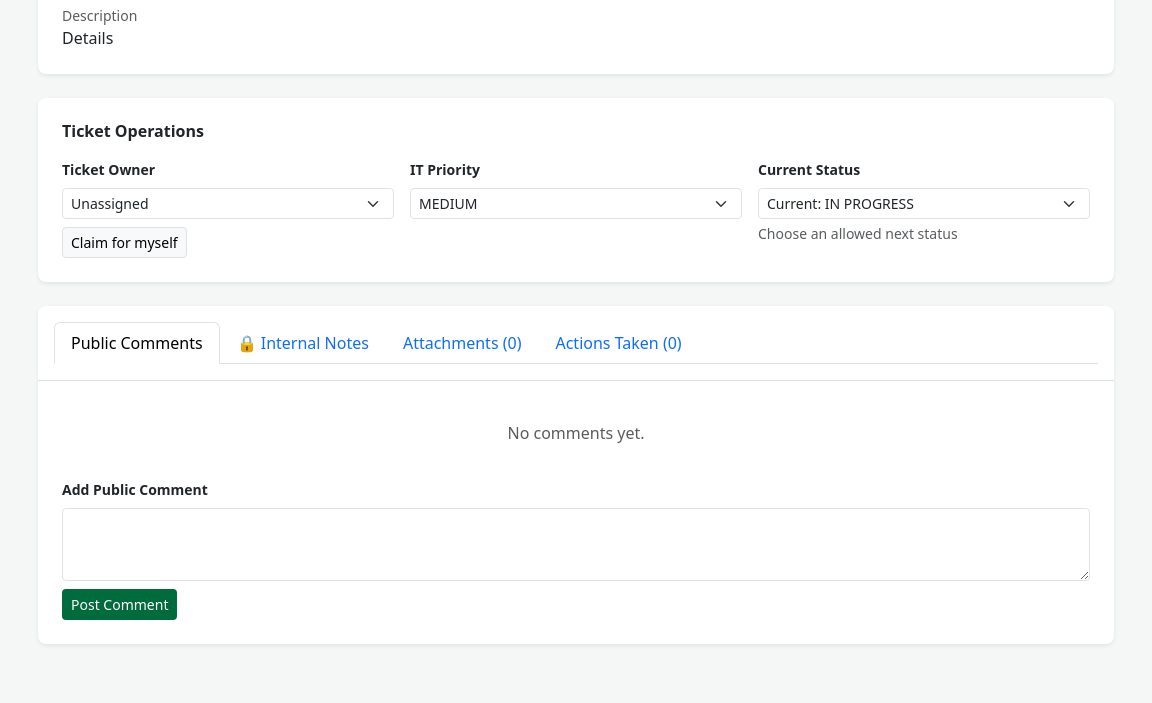
Test case: Actions Taken staff UI › UI-04: only renders Follow-up Note when selected
This screenshot has width=1152, height=703.
(page scrolled)
Click the tab "Actions Taken (0)" at (619, 343), box [538,322,699,364]
(page scrolled)
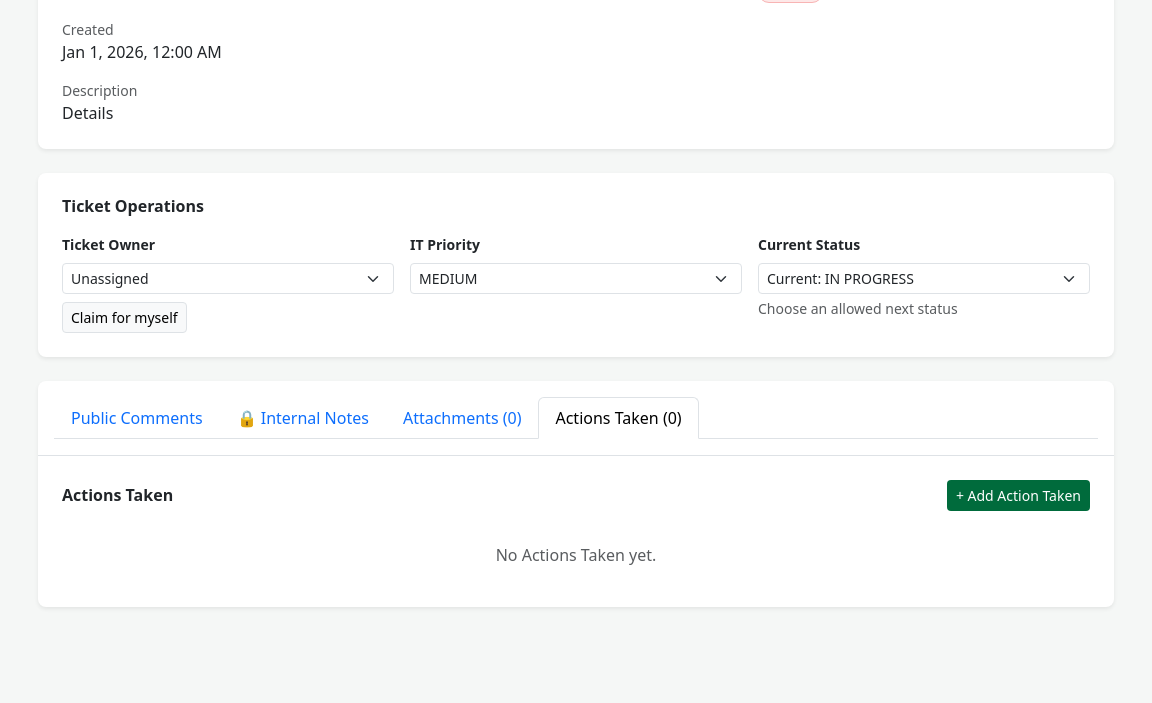
Click the button "+ Add Action Taken" at (1018, 496), box [947,480,1090,511]
(page scrolled)
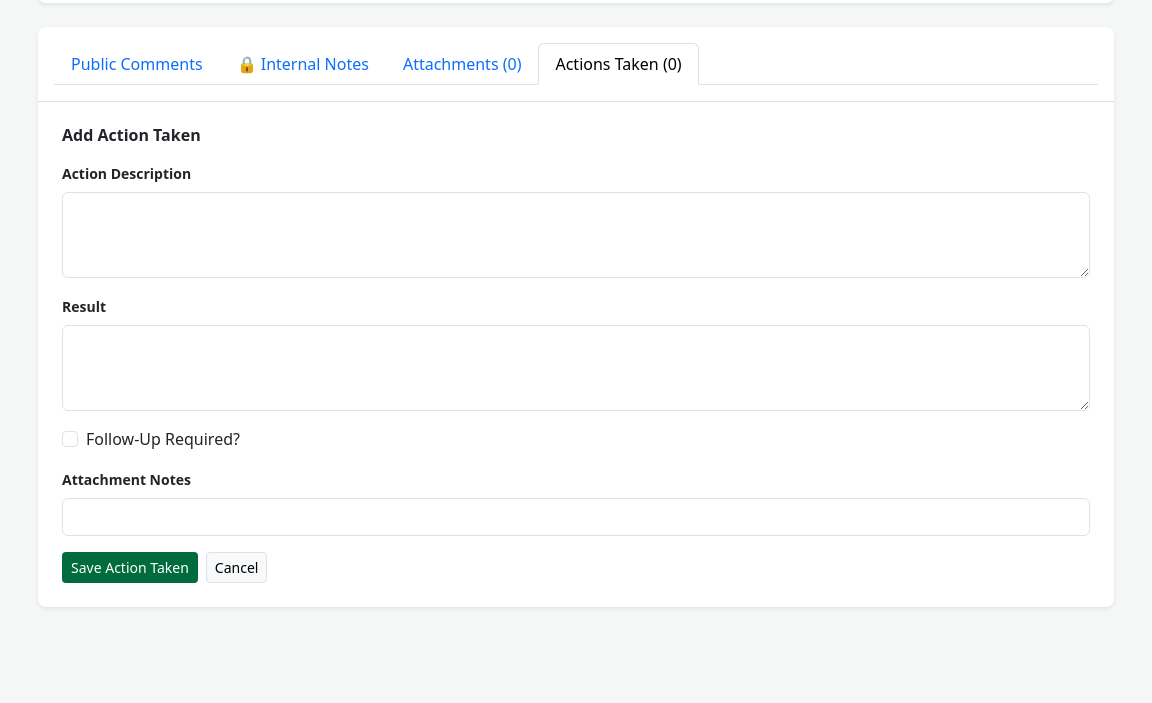
Check: the field labelled "Follow-up Note" is not shown
Click the checkbox labelled "Follow-Up Required?" at (70, 439), box [62,431,78,447]
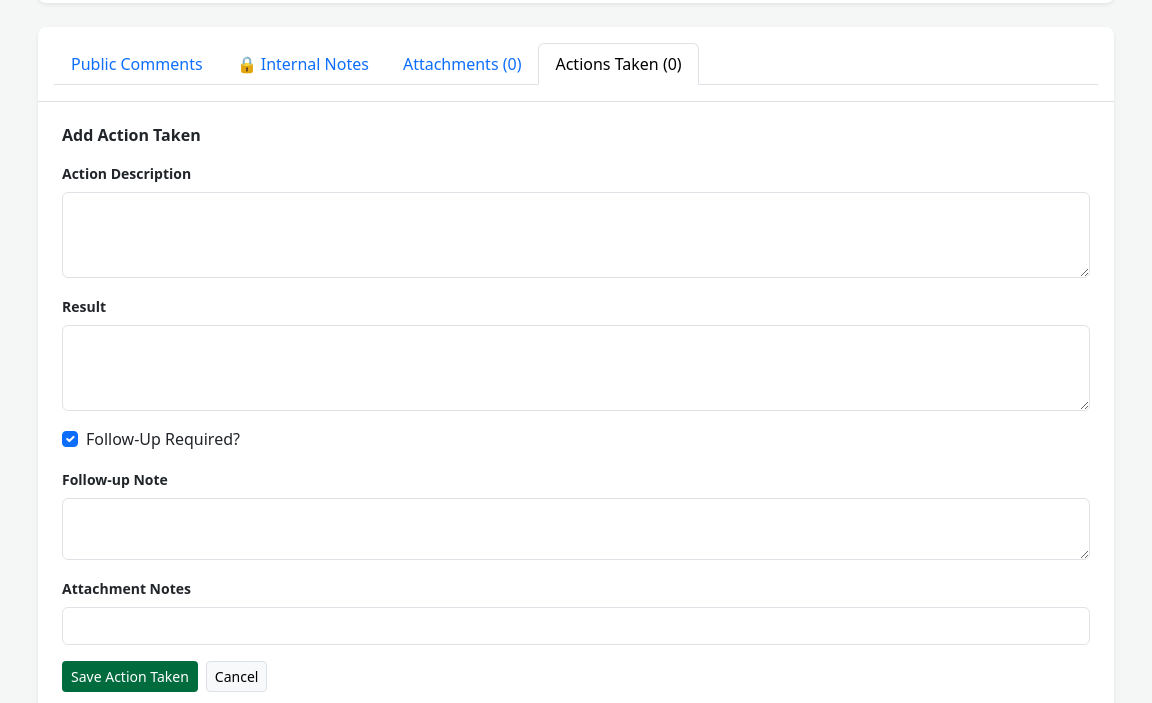
Check: the text box labelled "Follow-up Note" is shown, box [62,498,1090,560]
